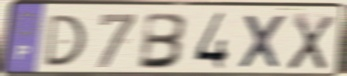4: (192, 10, 231, 72)
7: (95, 13, 138, 69)
B: (136, 11, 191, 71)
D: (42, 13, 88, 69)
X: (285, 11, 337, 72), (237, 12, 288, 71)
